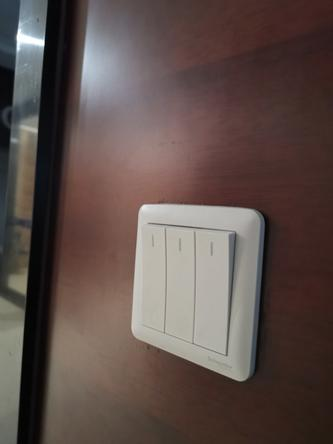switch: (190, 221, 236, 358), (162, 220, 199, 347), (138, 216, 170, 338)
